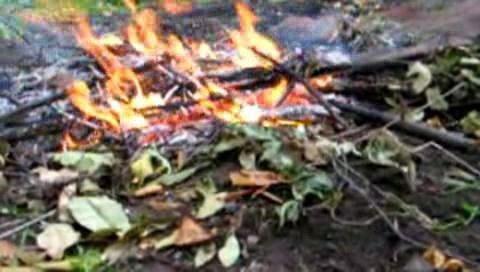fire: (58, 15, 310, 126)
